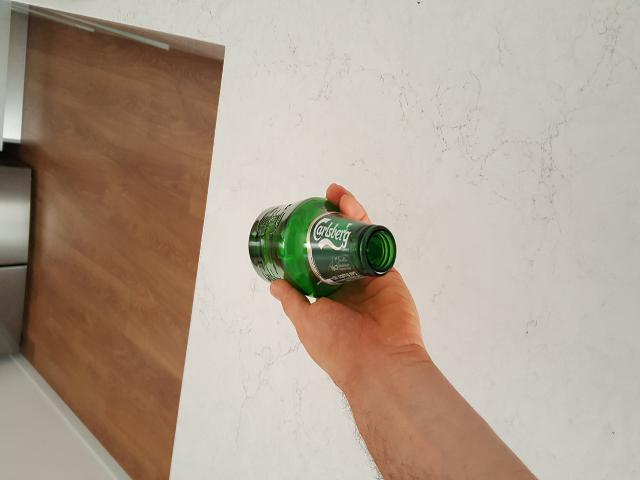beer: (247, 198, 396, 296)
